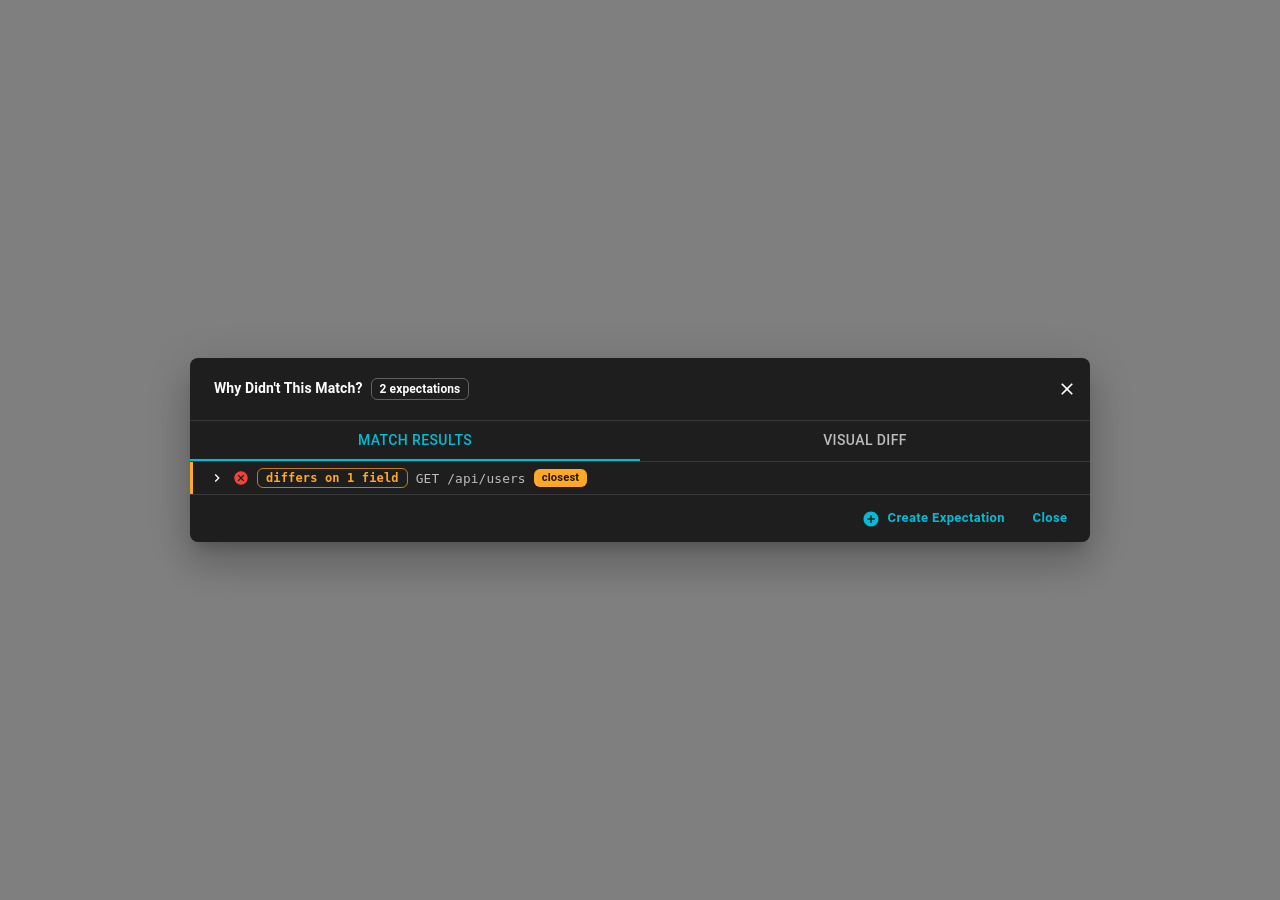
Test: Create Expectation from Unmatched Request › closes the capture dialog without closing the mismatch dialog
Click the button "Create Expectation".
click(934, 518)  # box [859, 503, 1010, 534]
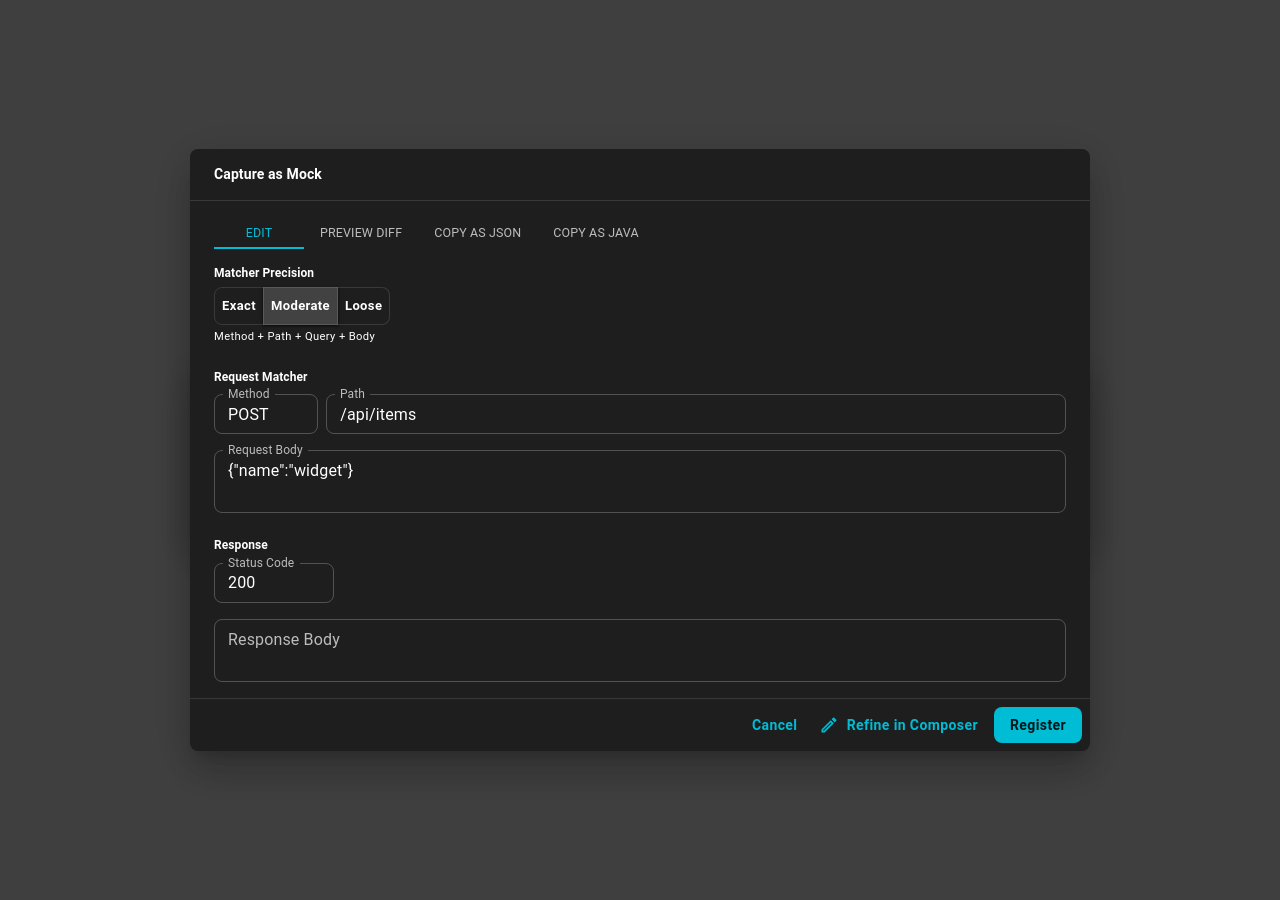
Now the heading "Capture as Mock" is shown, box [214, 166, 322, 182]
Click Cancel on the capture dialog
Click the button "Cancel".
click(775, 725)  # box [743, 707, 807, 743]
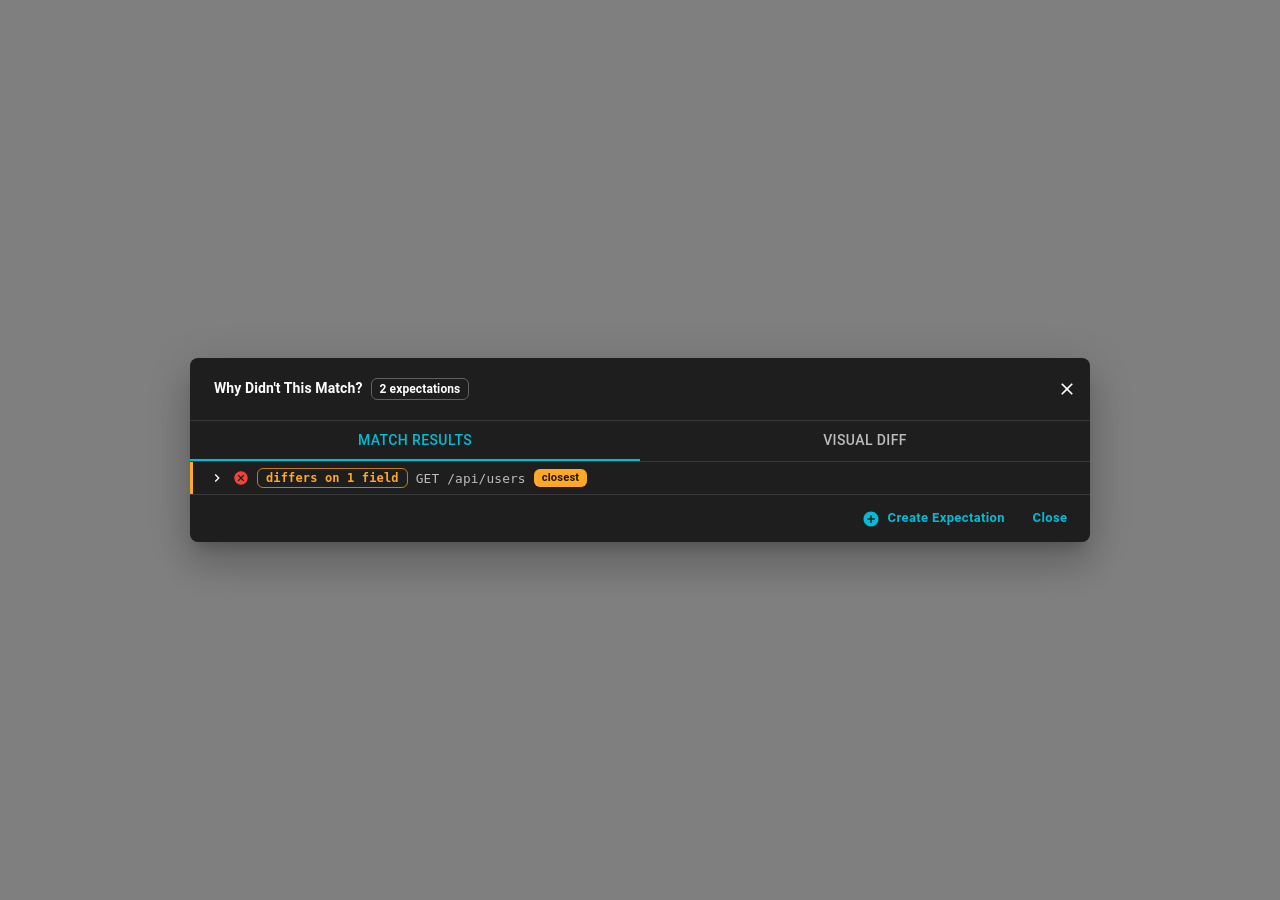
Expected: the text "Why Didn't This Match?" is shown, [214, 380, 362, 396]
Now the heading "Capture as Mock" is gone
